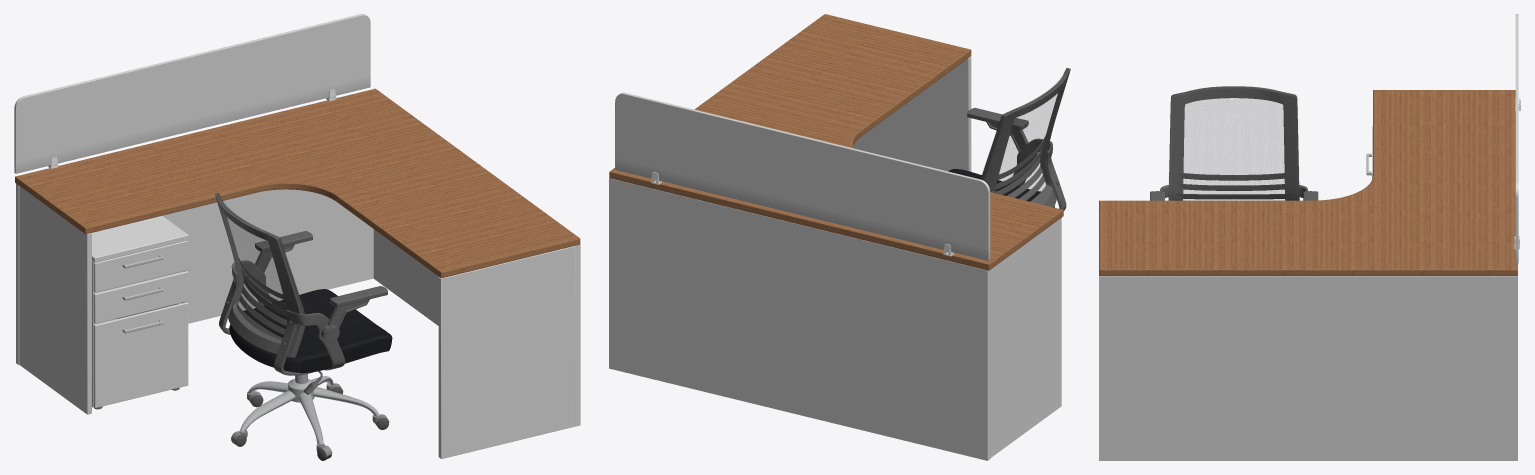
Rendered from office_desk_-_workstation-office_furniture.glb.
3 views of the same model, side by side, from view 1: azimuth 30°, elevation 25°; view 2: azimuth 150°, elevation 25°; view 3: azimuth 270°, elevation 25° (orthographic). The views are drawn at different scales.
Parts seen in each view (by area): view 1: Material2 (×9); view 2: Material2 (×6); view 3: Material2 (×6).
Boxes of the visible parts, bbox=[...] form: Material2 (×9): bbox=[14, 14, 580, 460]; Material2 (×6): bbox=[609, 14, 1070, 460]; Material2 (×6): bbox=[1099, 14, 1518, 460].
Bounding box in the file's own units: 61.19 × 42.88 × 60.6.
Materials: 15 (5 with a texture image).
